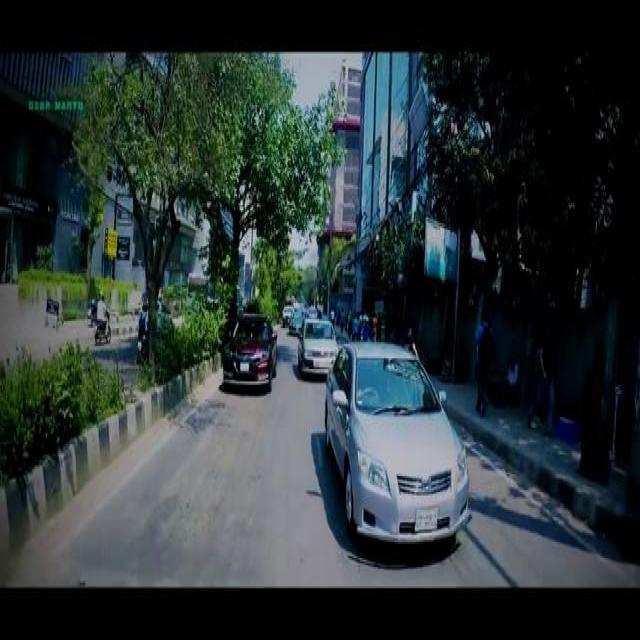car: (323, 337, 466, 535), (222, 308, 276, 384), (297, 316, 338, 372)
motorcycle: (92, 308, 110, 341)
